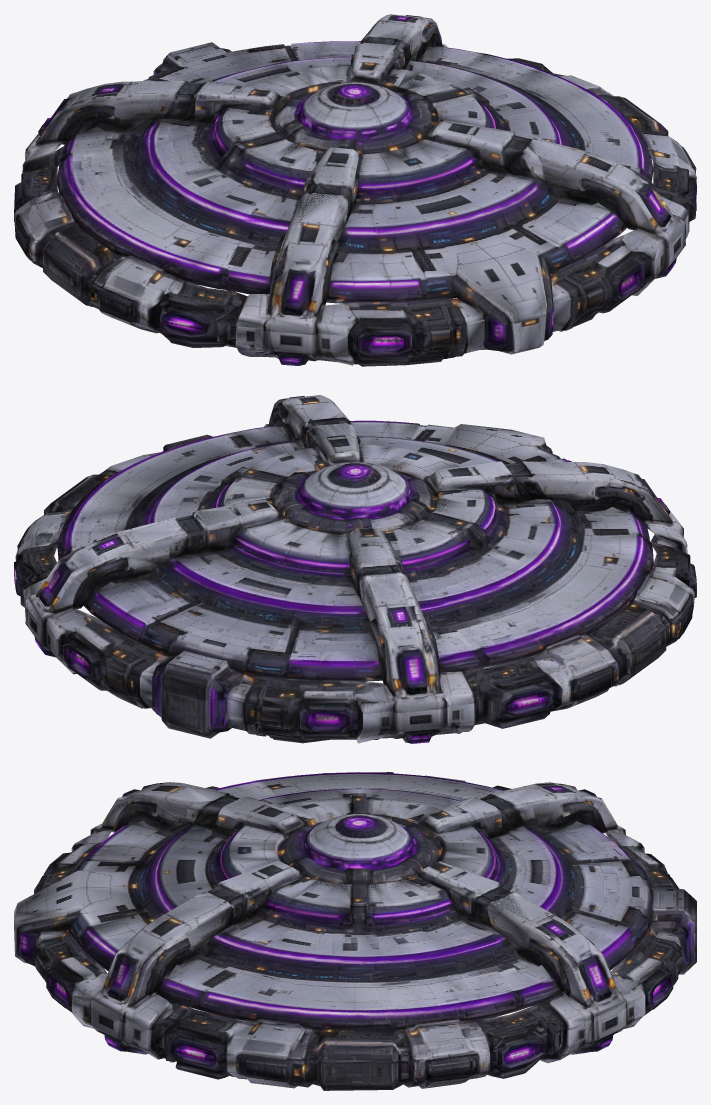
File: detailed-15.glb
The picture shows the model from 3 angles, top to bottom: view 1: azimuth 30°, elevation 25°; view 2: azimuth 150°, elevation 25°; view 3: azimuth 270°, elevation 25°; orthographic projection.
Visible parts, largest first — view 1: debris_1_1, debris_0_1, debris_2_1, hull, debris_0_0, debris_1_0, debris_2_0; view 2: debris_1_1, debris_0_1, debris_2_1, hull, debris_0_0, debris_1_0, debris_2_0; view 3: debris_2_1, debris_1_1, debris_0_1, hull, debris_2_0, debris_1_0.
Boxes of the visible parts, <box> form: debris_1_1: <box>141,33,609,332</box>; debris_0_1: <box>15,81,412,335</box>; debris_2_1: <box>323,14,695,281</box>; hull: <box>14,18,696,366</box>; debris_0_0: <box>14,156,415,366</box>; debris_1_0: <box>400,282,612,365</box>; debris_2_0: <box>605,135,696,312</box>; debris_1_1: <box>100,413,571,708</box>; debris_0_1: <box>300,461,696,713</box>; debris_2_1: <box>14,395,387,661</box>; hull: <box>16,400,696,742</box>; debris_0_0: <box>299,535,696,743</box>; debris_1_0: <box>98,663,367,743</box>; debris_2_0: <box>14,512,114,694</box>; debris_2_1: <box>49,891,669,1063</box>; debris_1_1: <box>14,797,696,968</box>; debris_0_1: <box>46,772,665,873</box>; hull: <box>14,783,696,1084</box>; debris_2_0: <box>46,969,673,1090</box>; debris_1_0: <box>15,878,696,1005</box>.
Size of the model in its own units: 0.9814 by 0.318 by 1.
Materials: 2 (1 with a texture image).
